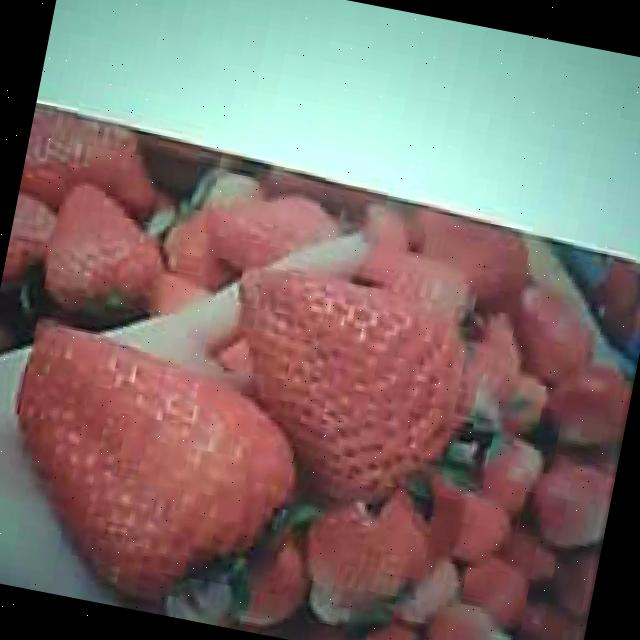strawberry: (0, 320, 312, 610), (207, 265, 492, 517)
